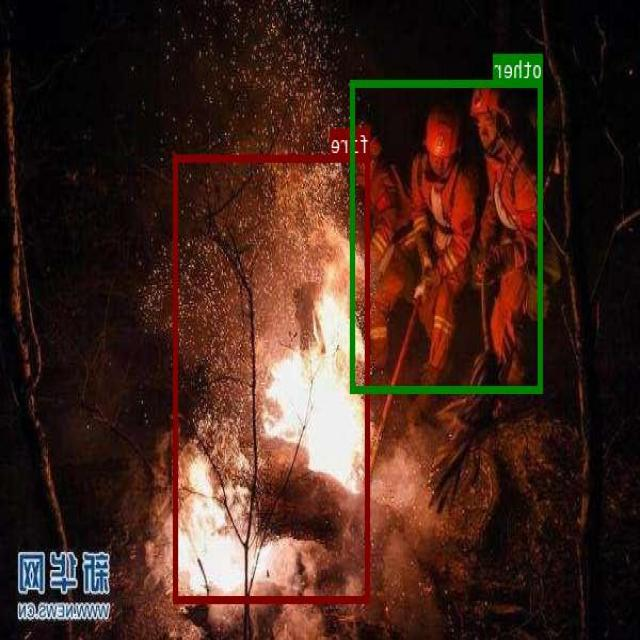fire: (174, 154, 371, 601)
other: (351, 79, 544, 392)
